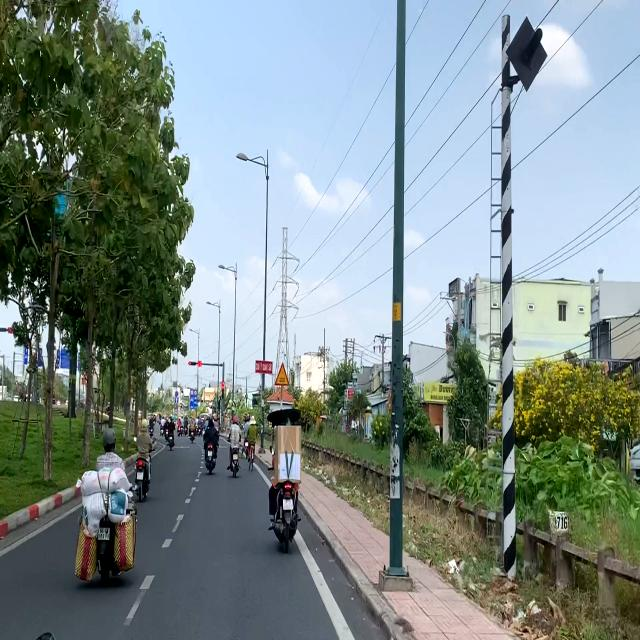W.210: (274, 362, 290, 387)
